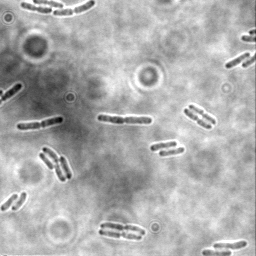Dividing: (52, 0, 96, 19), (17, 116, 64, 132), (97, 113, 154, 126), (99, 221, 146, 236), (183, 108, 214, 130), (98, 228, 144, 242), (188, 103, 217, 125), (19, 1, 52, 16), (33, 0, 64, 11)
Microcolony: (38, 146, 73, 183)
Rod: (224, 52, 251, 70), (2, 82, 23, 102), (213, 239, 248, 250), (159, 145, 186, 158), (1, 192, 18, 212), (149, 141, 178, 152), (13, 191, 28, 212), (200, 248, 233, 255)
